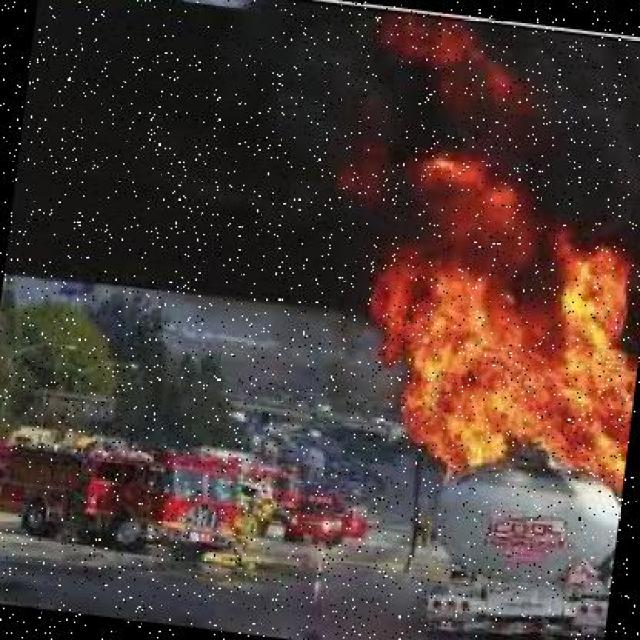fire: (336, 144, 638, 493)
